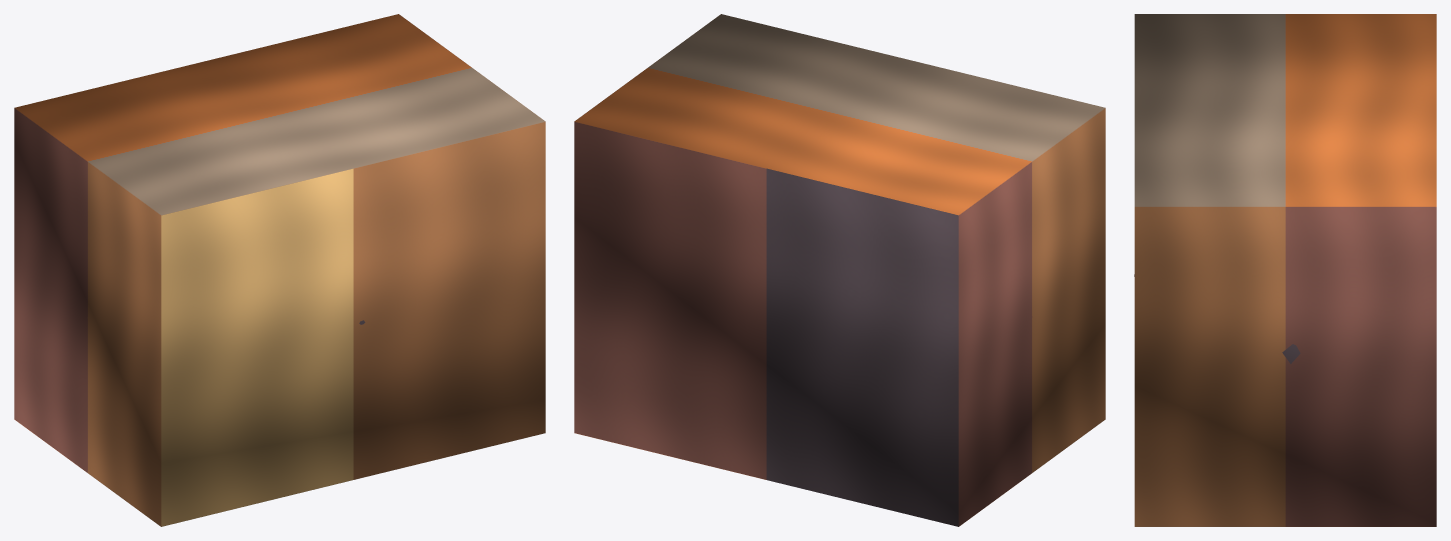
File: rock_volcanic_c.glb
The picture shows the model from 3 angles, left to right: view 1: azimuth 30°, elevation 25°; view 2: azimuth 150°, elevation 25°; view 3: azimuth 270°, elevation 25°; orthographic projection. The views are drawn at different scales.
Parts seen in each view (by area): view 1: col; view 2: col; view 3: col.
Part boxes in pixels (x1,y1,x2,y2): col: (14,14,545,526); col: (574,14,1105,526); col: (1134,14,1436,526).
Size of the model in its own units: 2.54 by 1.96 by 1.68.
1 material, 1 textured.
